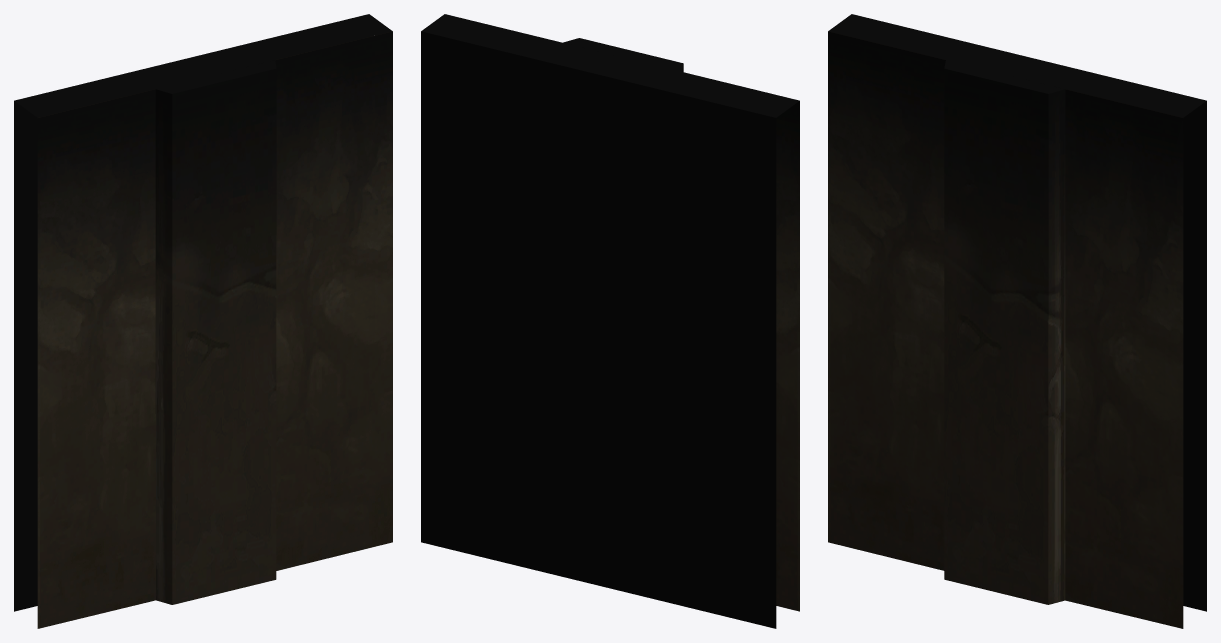
File: fortress_fade_straight_02.fbx
The picture shows the model from 3 angles, left to right: view 1: azimuth 30°, elevation 25°; view 2: azimuth 150°, elevation 25°; view 3: azimuth 330°, elevation 25°; orthographic projection.
Visible parts, largest first — view 1: fortress_fade_straight_02-0; view 2: fortress_fade_straight_02-0; view 3: fortress_fade_straight_02-0.
Boxes of the visible parts, x1=… form: fortress_fade_straight_02-0: x1=14, y1=14, x2=392, y2=628; fortress_fade_straight_02-0: x1=421, y1=14, x2=799, y2=628; fortress_fade_straight_02-0: x1=828, y1=14, x2=1206, y2=628.
Size of the model in its own units: 4 by 5.5 by 0.6404.
